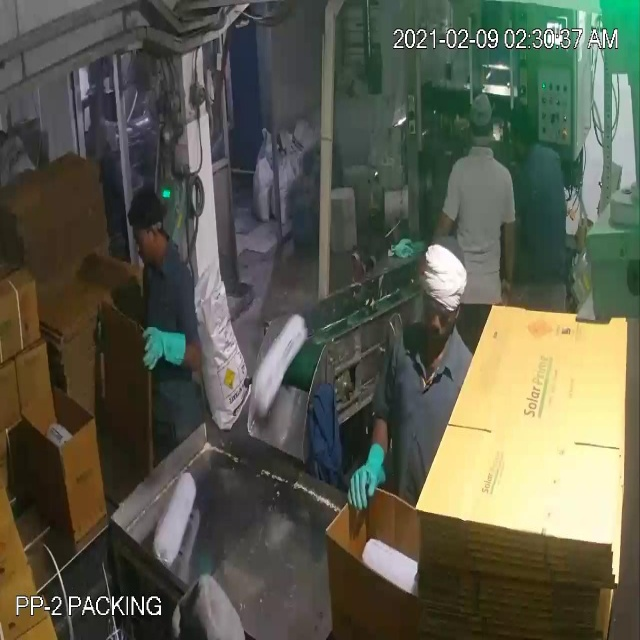Guantes: (133, 316, 199, 380), (335, 445, 392, 516)
Sin_guantes: (410, 191, 454, 274), (497, 198, 521, 304)
